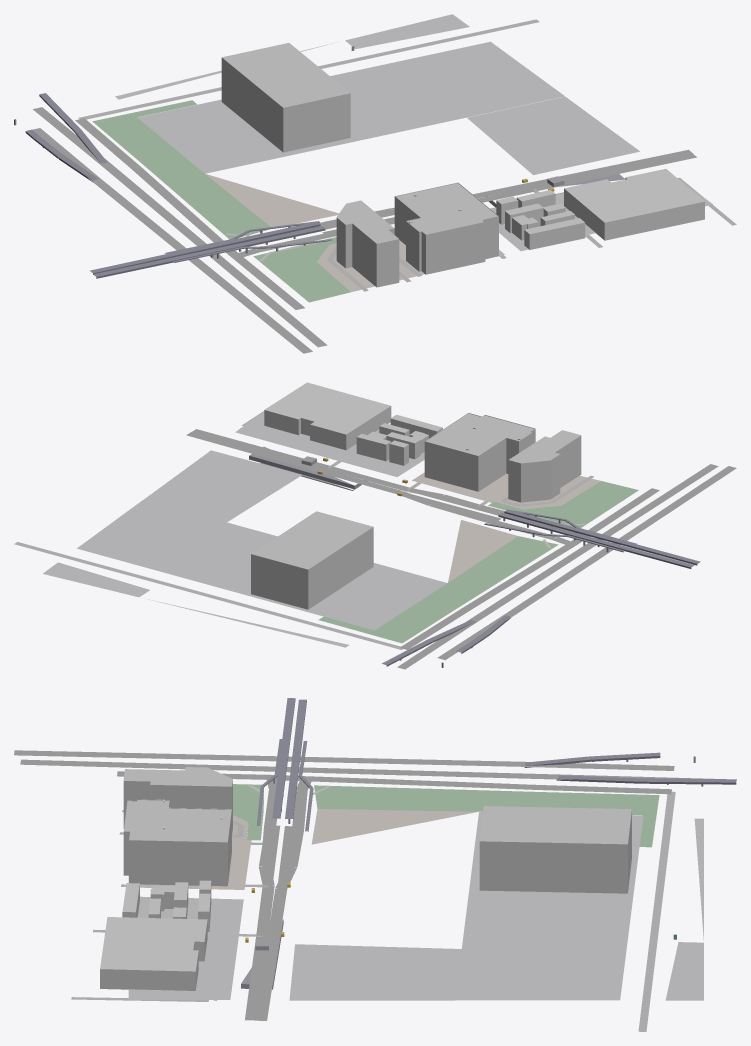
3 views of the same model, one above another, from view 1: azimuth 30°, elevation 25°; view 2: azimuth 150°, elevation 25°; view 3: azimuth 270°, elevation 25° (orthographic). The views are drawn at different scales.
Size of the model in its own units: 668 by 62.1 by 628.
